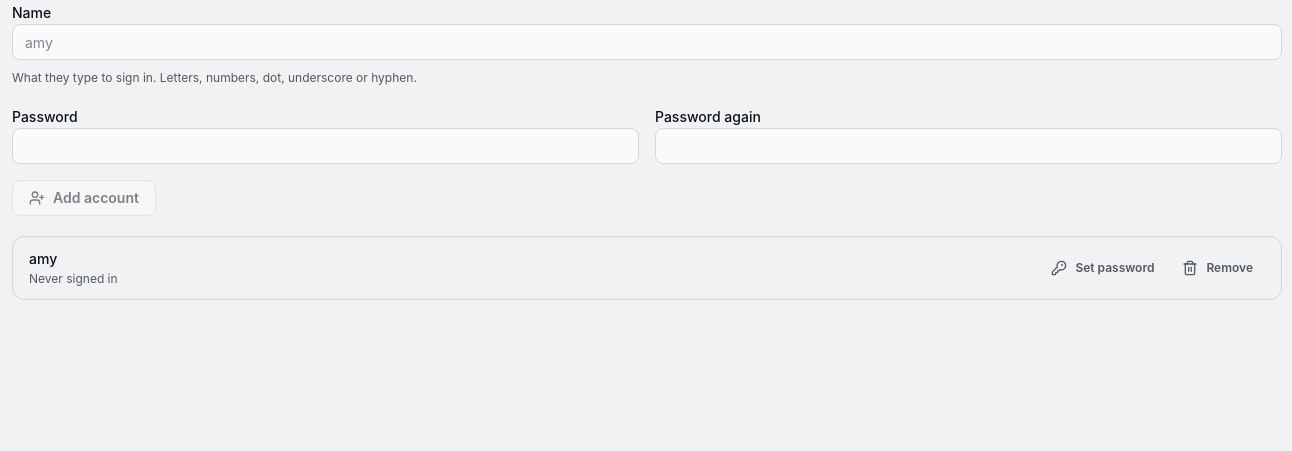
AccountsManager › asks before removing an account
Click the button "Remove": (1218, 268) top-left (1170, 252), bottom-right (1265, 284)
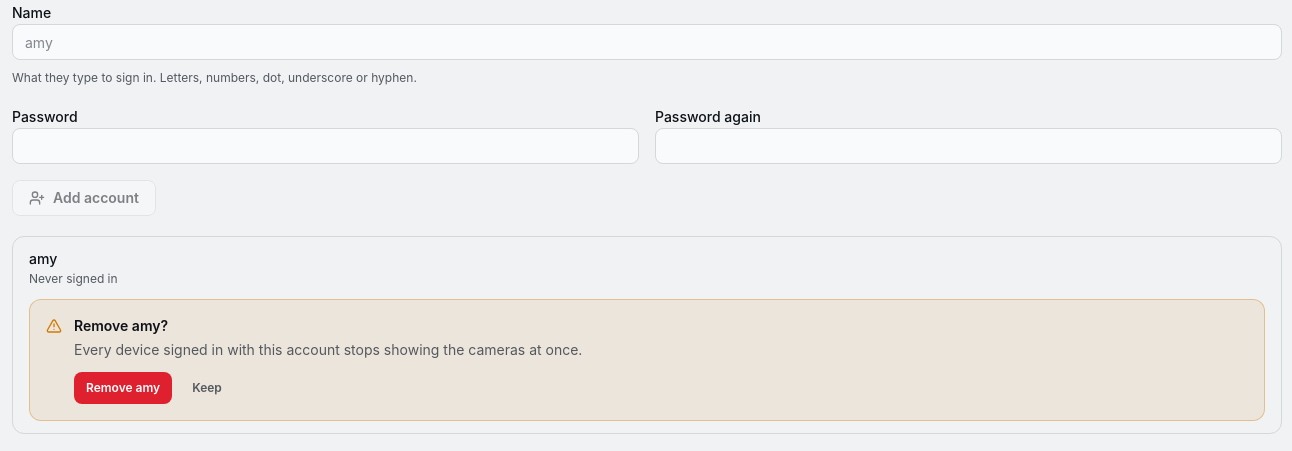
Click the button "Remove amy": (123, 388) top-left (74, 372), bottom-right (172, 404)
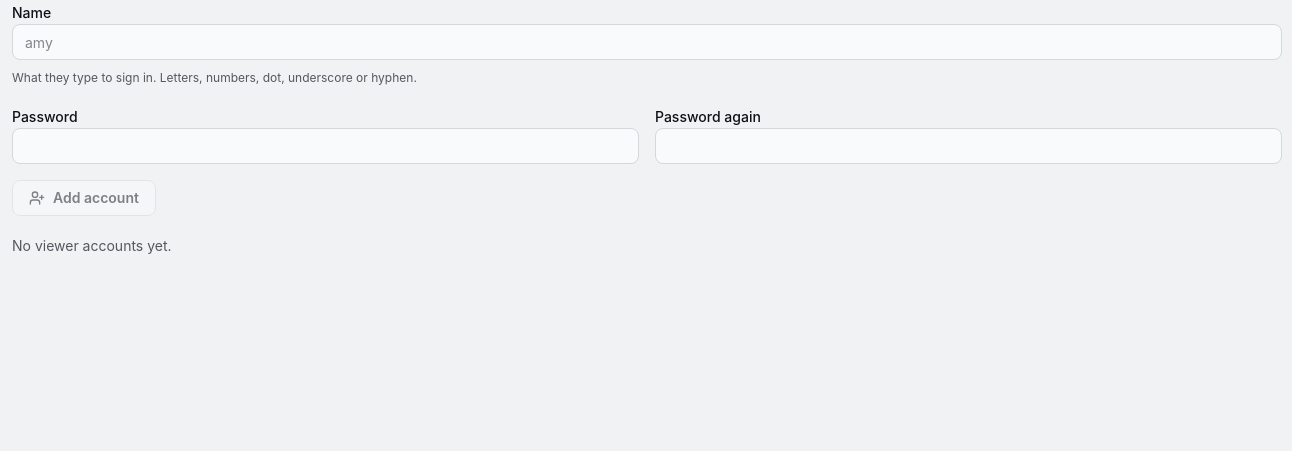
Expected: the text "No viewer accounts yet." is shown, top-left (12, 237), bottom-right (172, 254)
